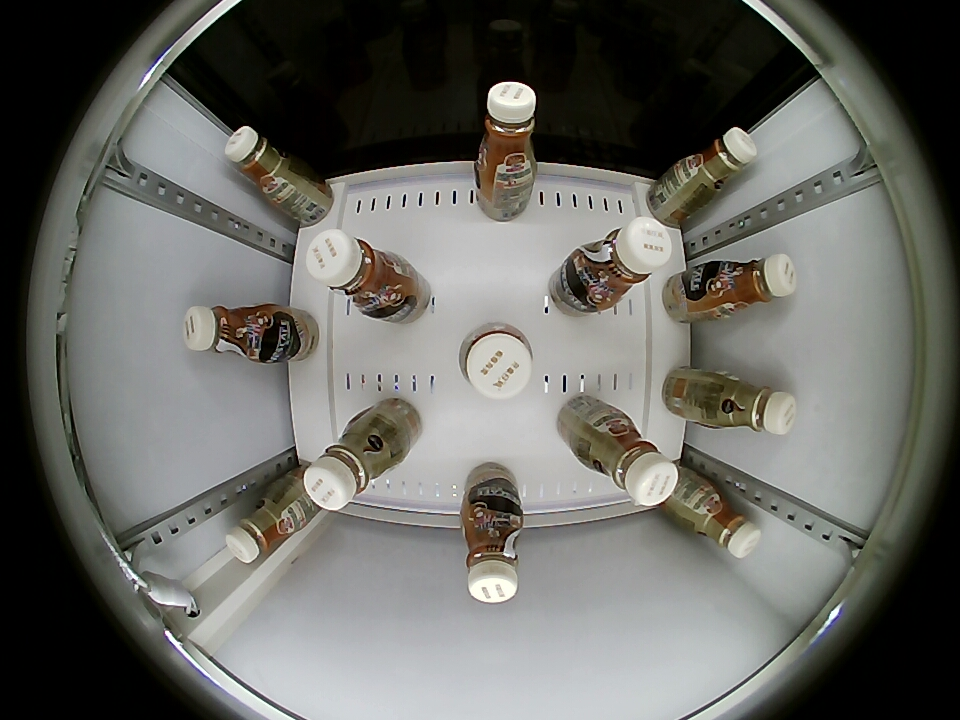kafei: (570, 218, 674, 309), (302, 418, 400, 512), (582, 417, 680, 508), (305, 229, 406, 317), (474, 82, 539, 188), (461, 497, 524, 603), (226, 485, 310, 564), (675, 481, 761, 558), (224, 126, 304, 199), (459, 323, 535, 399), (708, 254, 796, 318), (708, 373, 797, 436), (184, 303, 275, 364), (682, 126, 757, 198)
